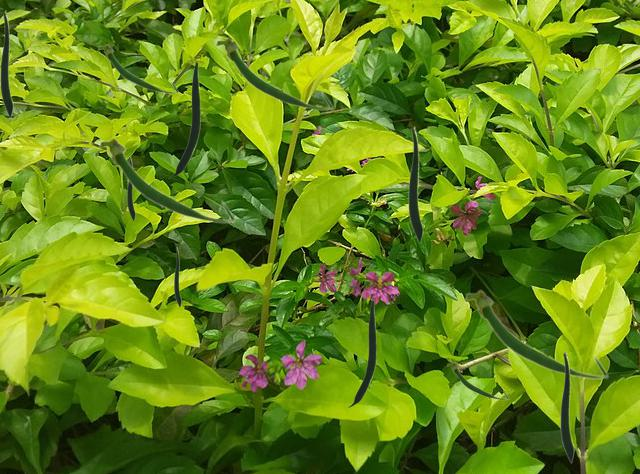french_bean: (463, 289, 608, 379), (97, 137, 235, 223), (214, 37, 333, 110), (97, 43, 178, 93), (168, 61, 199, 177), (347, 299, 375, 406), (446, 361, 508, 399), (408, 126, 422, 242), (560, 351, 573, 462), (0, 10, 12, 117), (127, 156, 134, 220), (174, 247, 180, 306)
